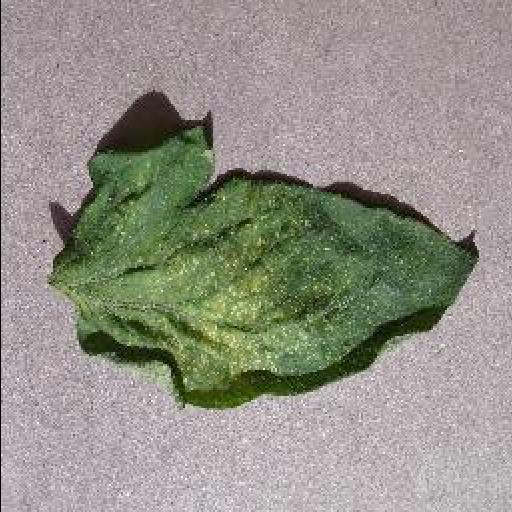disease_tomato: (48, 126, 476, 408)
